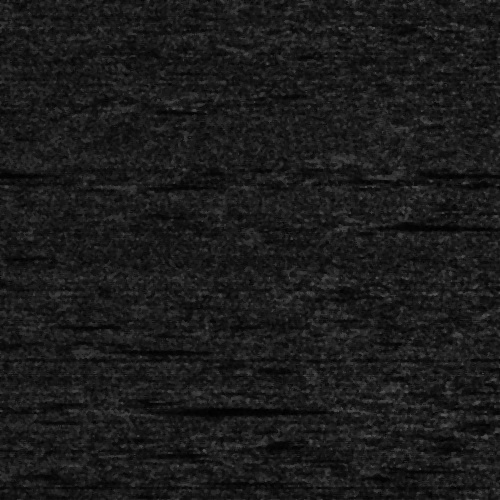object: (41, 404, 124, 413), (333, 219, 396, 228), (46, 344, 109, 351), (382, 170, 435, 177)
shadow: (82, 404, 260, 413), (365, 219, 500, 228), (78, 344, 186, 351), (409, 170, 500, 177), (0, 171, 40, 174)
